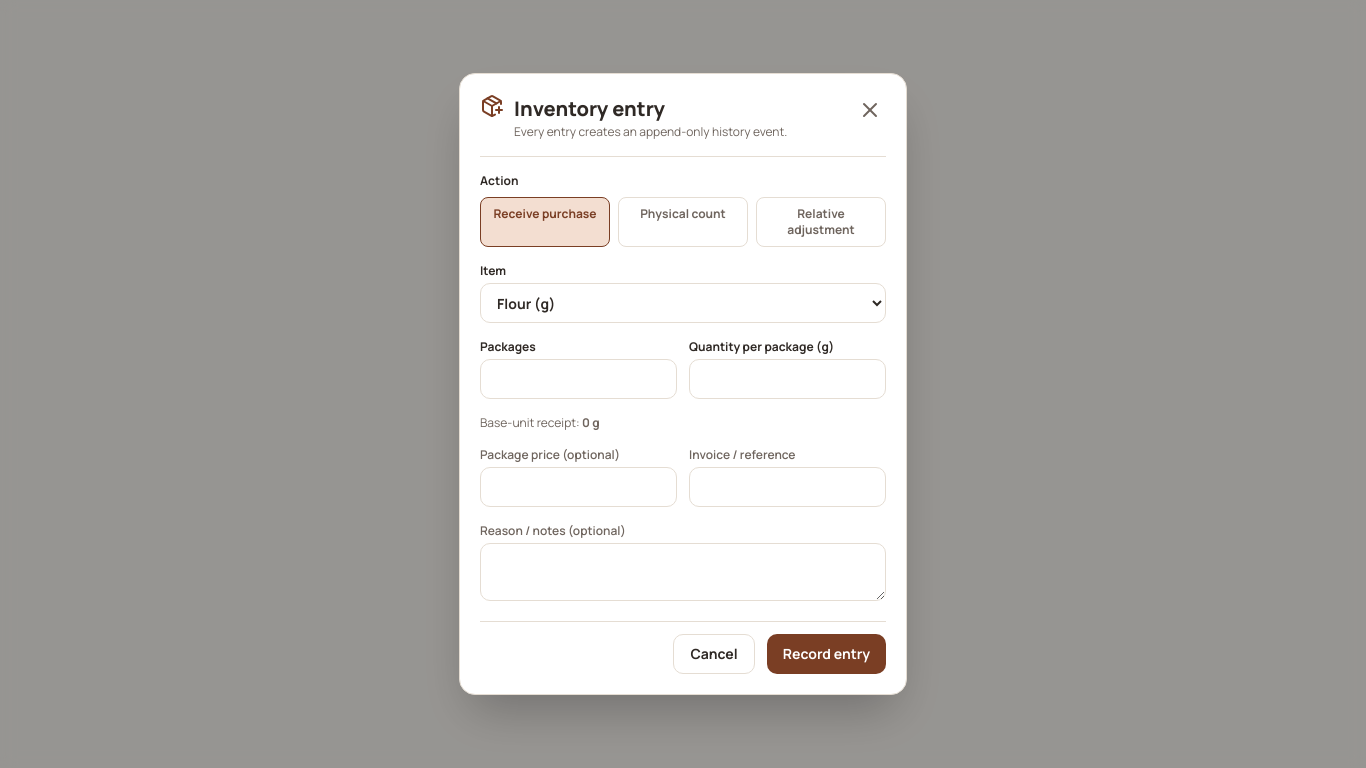
Scenario: InventoryAdjustModal › converts received packages to a base-unit command
Type "3" into the number field named "Package count" at (578, 379), box [480,359,677,399]
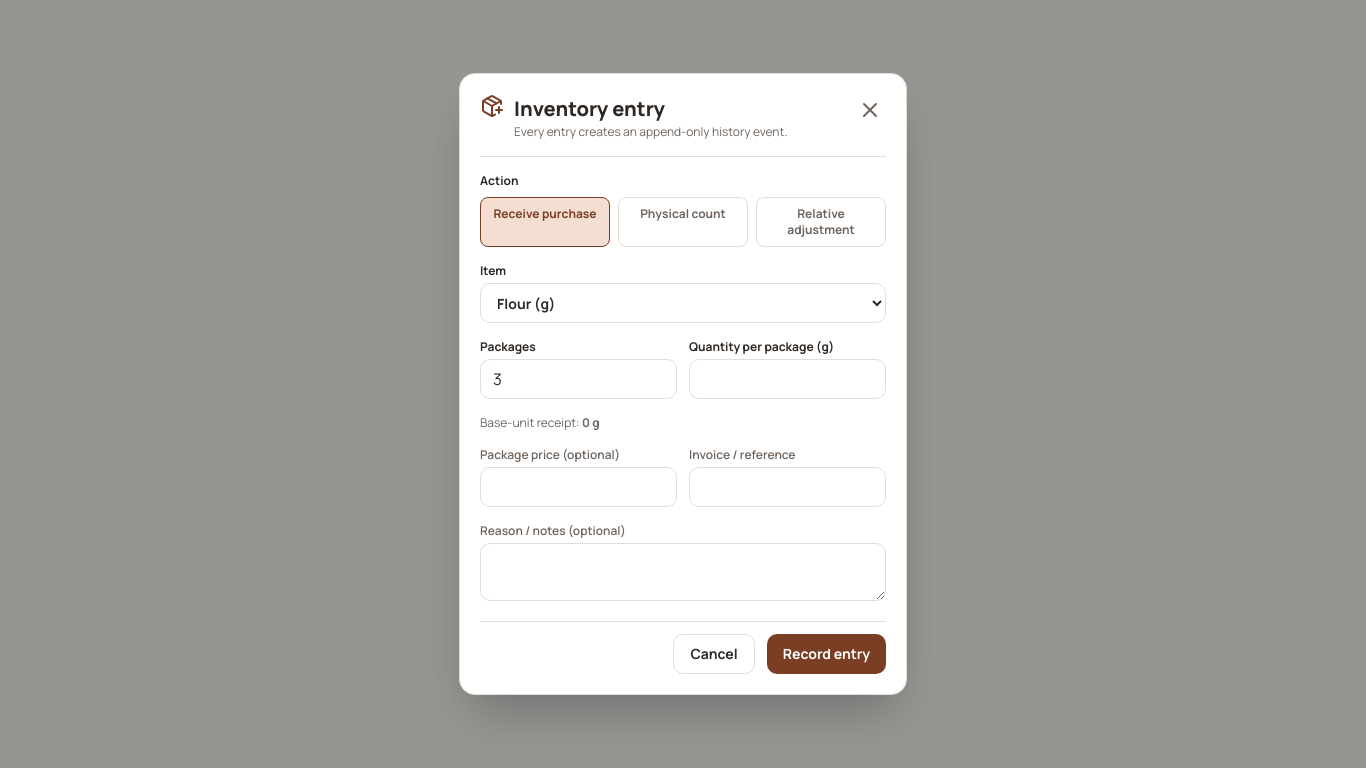
Type "25000" into the number field named "Package base-unit quantity" at (788, 379), box [689,359,886,399]
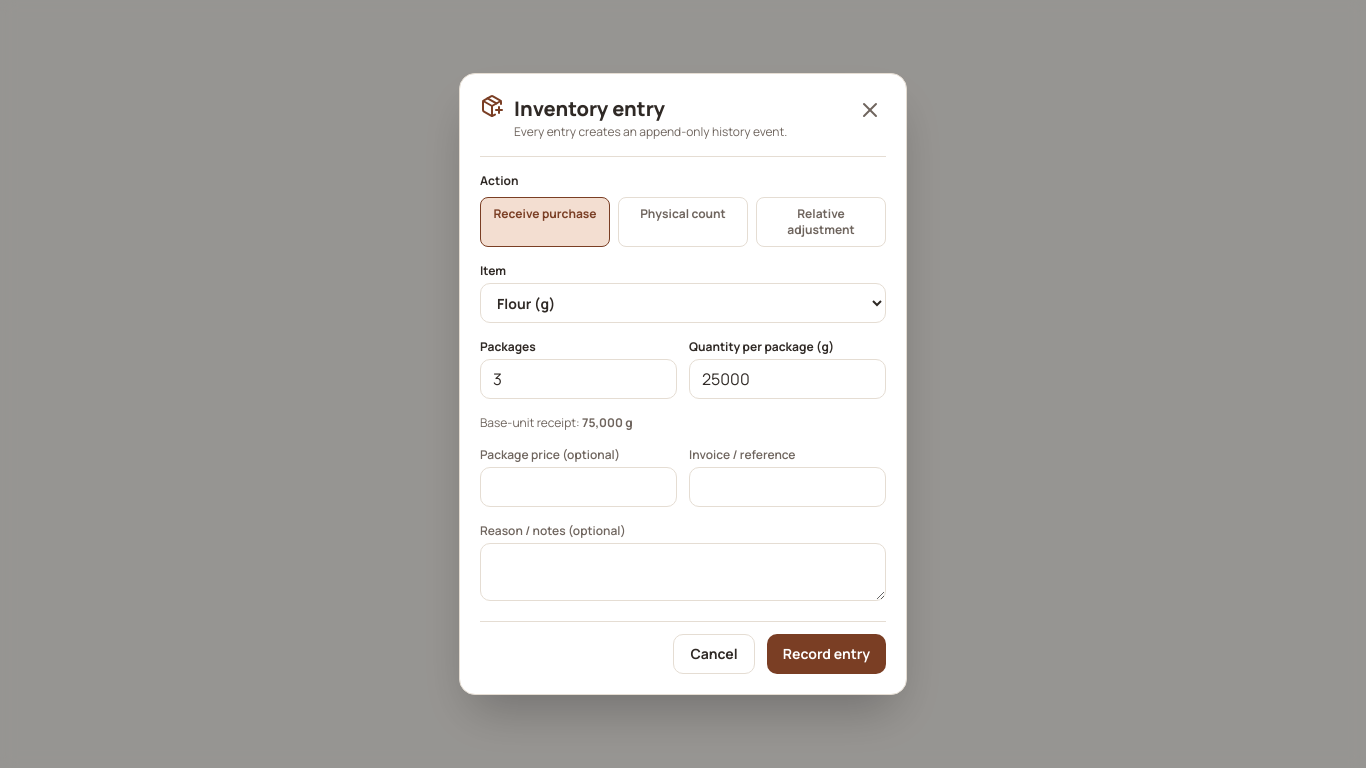
Click the button "Record entry" at (826, 654), box [767,634,886,674]
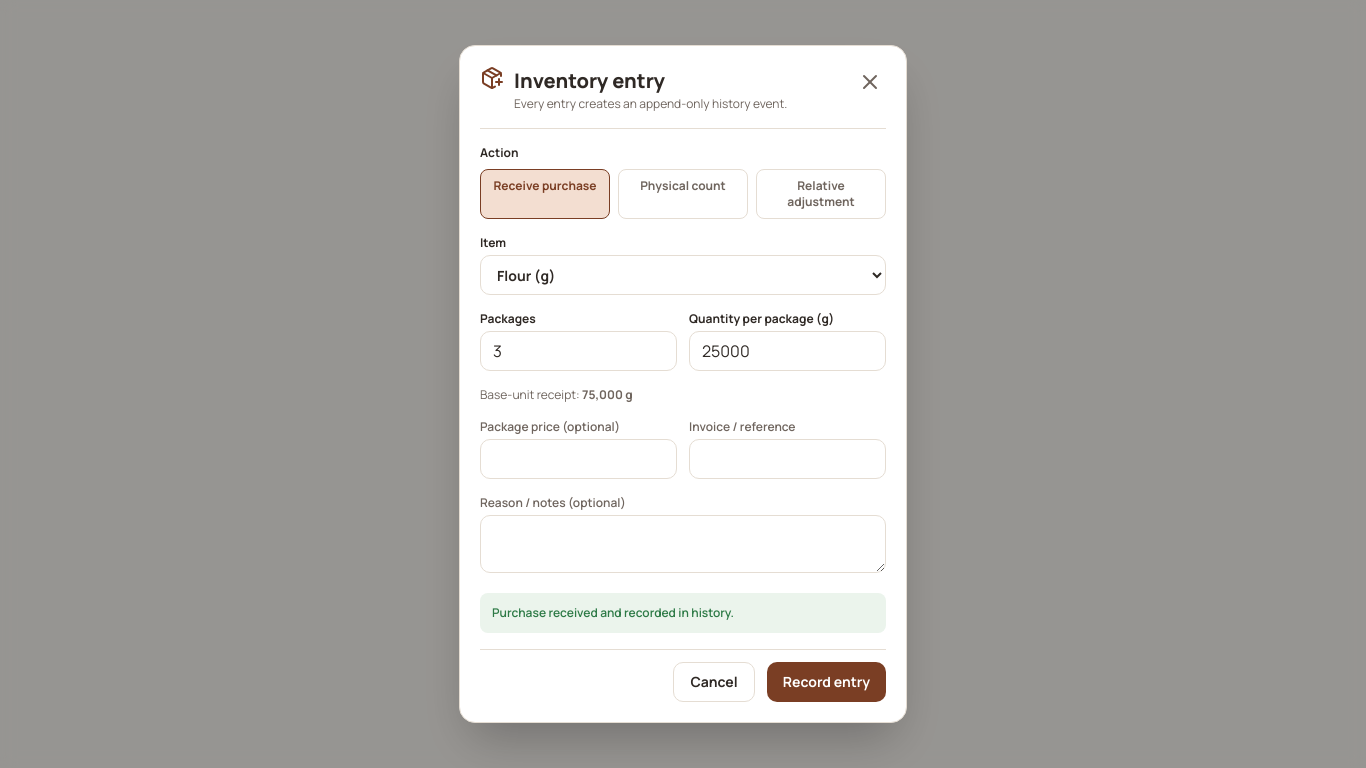
Result: the message shows "Purchase received" at [492,604,734,621]
